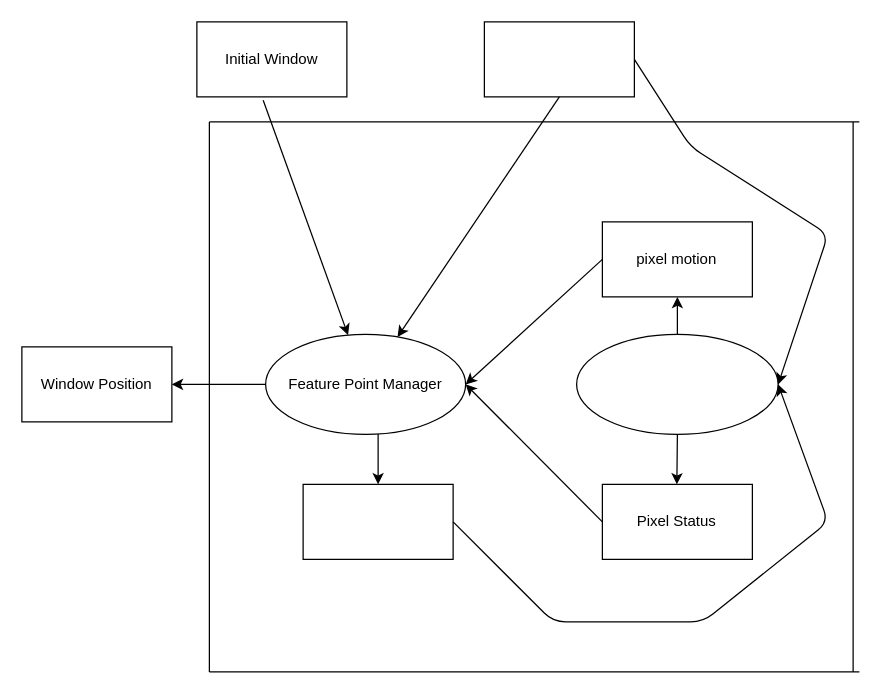
Some shapes in this 883 by 695 pixel diagram are drawn without their labels. Each missing label, with the centre of its shape:
Feature Points: (377,521)
images: (558,59)
Optical Flow: (676,383)
